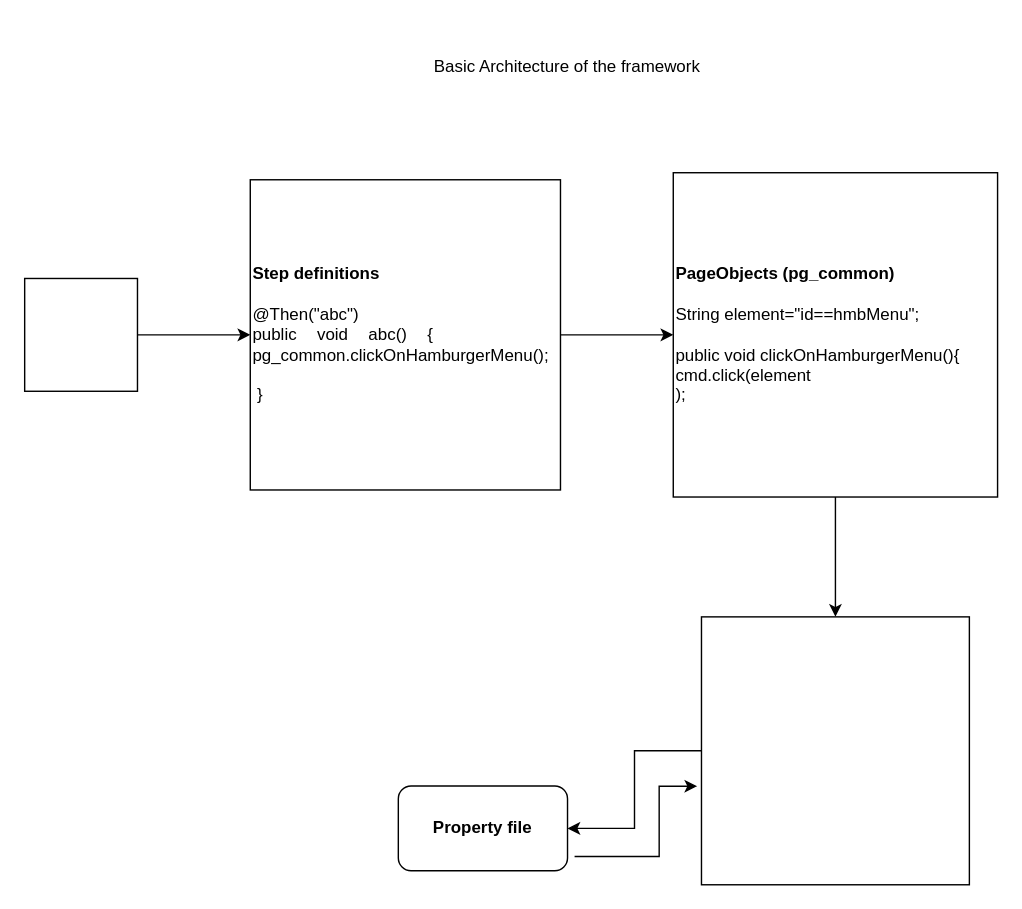
Image size: 1022x909. Some labels were removed from this diagram. Each missing label, with the box of its shape:
commandBase public void click(String ele){ ele.click(); // selenium command }: (700, 615, 969, 885)
Feature Files: (23, 277, 137, 391)
